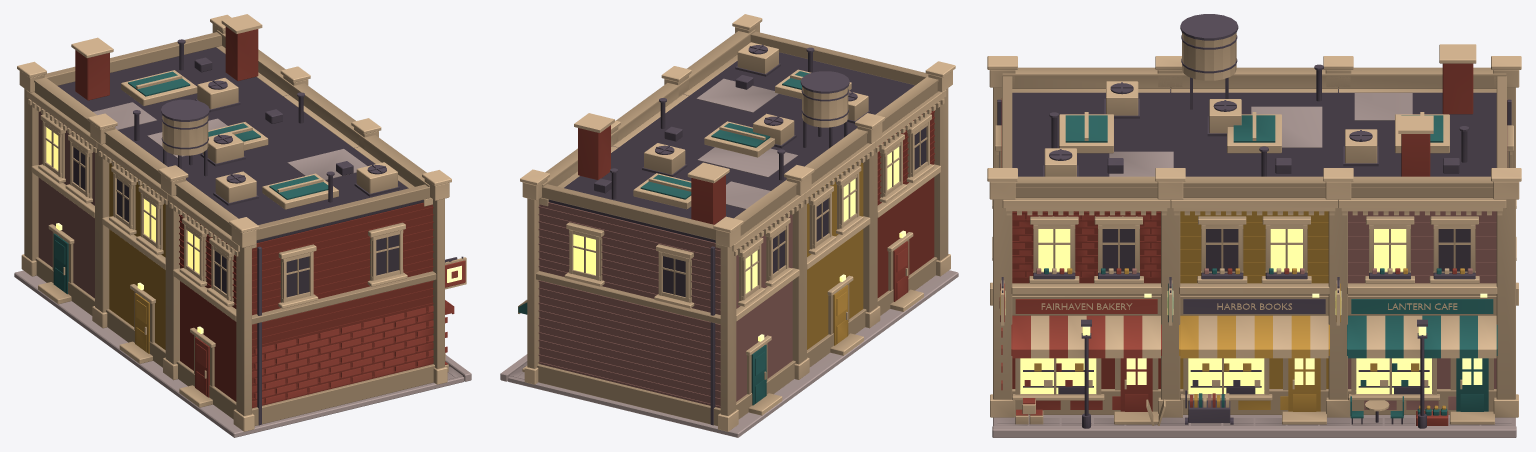
The model's file is bld.storefront-row.glb.
3 renders of one model, left to right at view 1: azimuth 30°, elevation 25°; view 2: azimuth 150°, elevation 25°; view 3: azimuth 270°, elevation 25°, orthographic. The views are drawn at different scales.
Parts seen in each view (by area): view 1: body; view 2: body; view 3: body.
Part boxes in pixels (x1,y1,x2,y2): body: (14, 14, 471, 437); body: (500, 14, 958, 437); body: (987, 14, 1521, 437).
Bounding box in the file's own units: 10.1 × 10.22 × 16.54.
